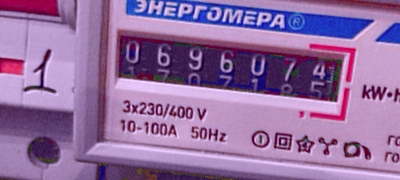0: (122, 39, 144, 66), (248, 51, 268, 79)
4: (310, 58, 329, 81)
5: (308, 81, 326, 102)
6: (216, 47, 237, 76), (154, 42, 175, 69)
7: (280, 56, 299, 84)
9: (185, 45, 204, 72)
screen: (100, 17, 360, 127)
